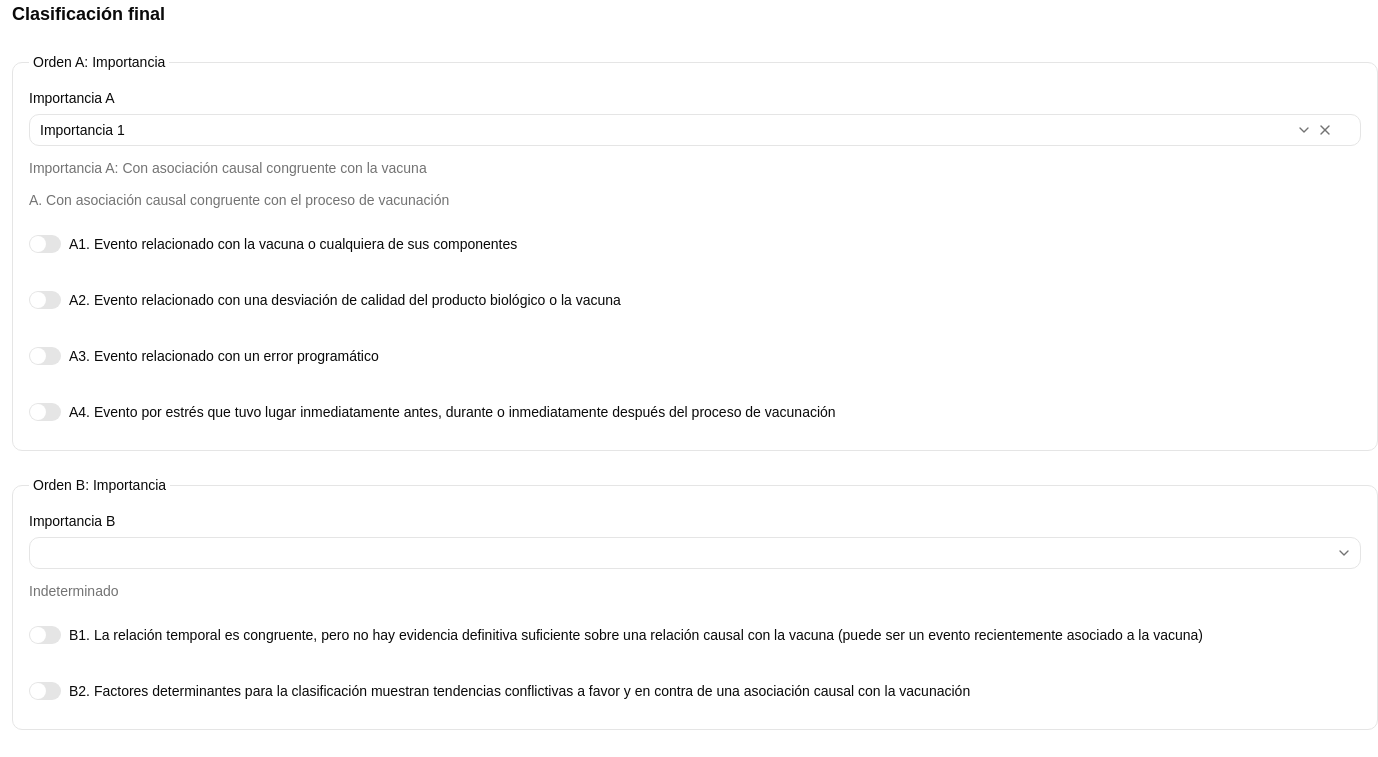
Test: FinalClassificationStep — precedencia entre importancias (SPEC FE14a §3.5) › elegir en B la posición de A deja A en null y muestra el aviso
This screenshot has width=1378, height=757.
Expected: the dropdown named "Importancia A" reads "Importancia 1", [29,114,1361,146]
Click the dropdown named "Importancia B" at (1344, 553), box [29,537,1361,569]
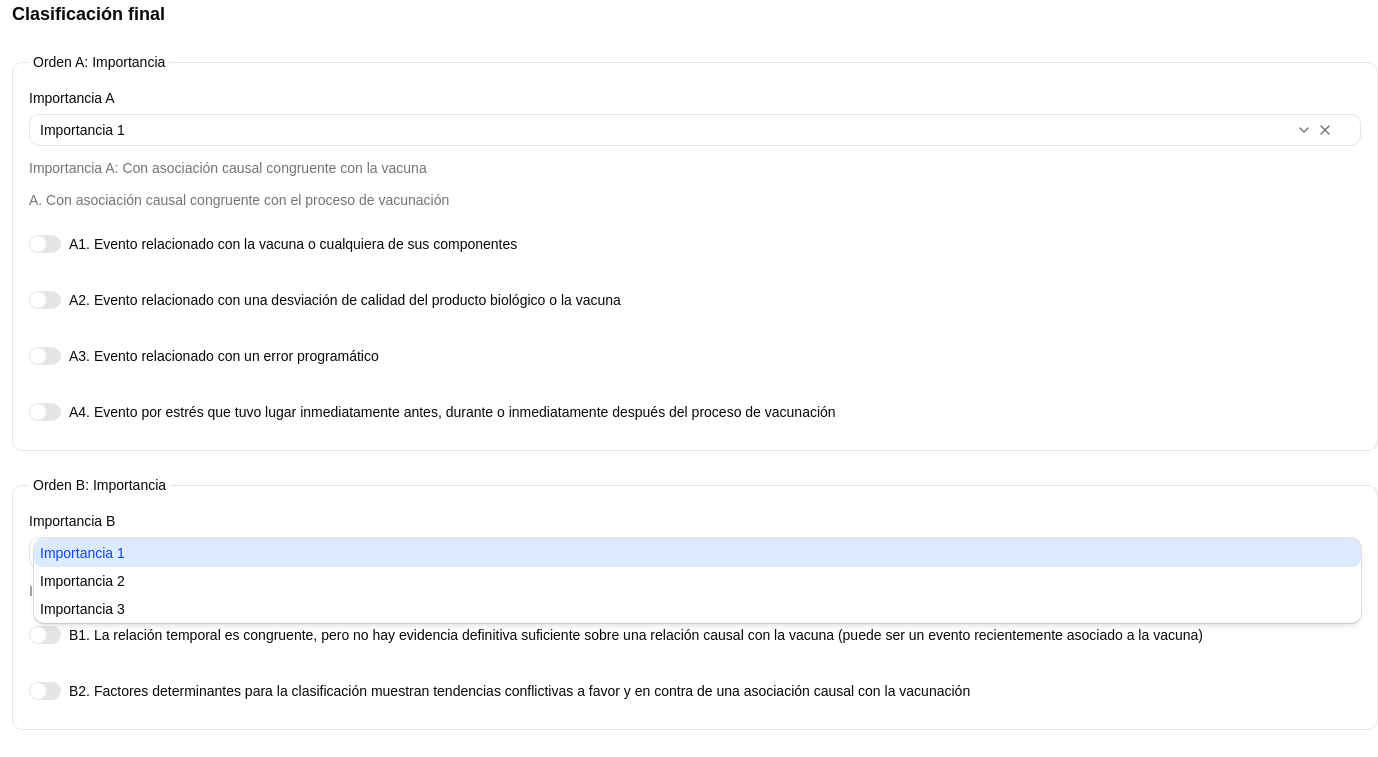
Click the option "Importancia 1" at (82, 553), box [34,539,1361,567]
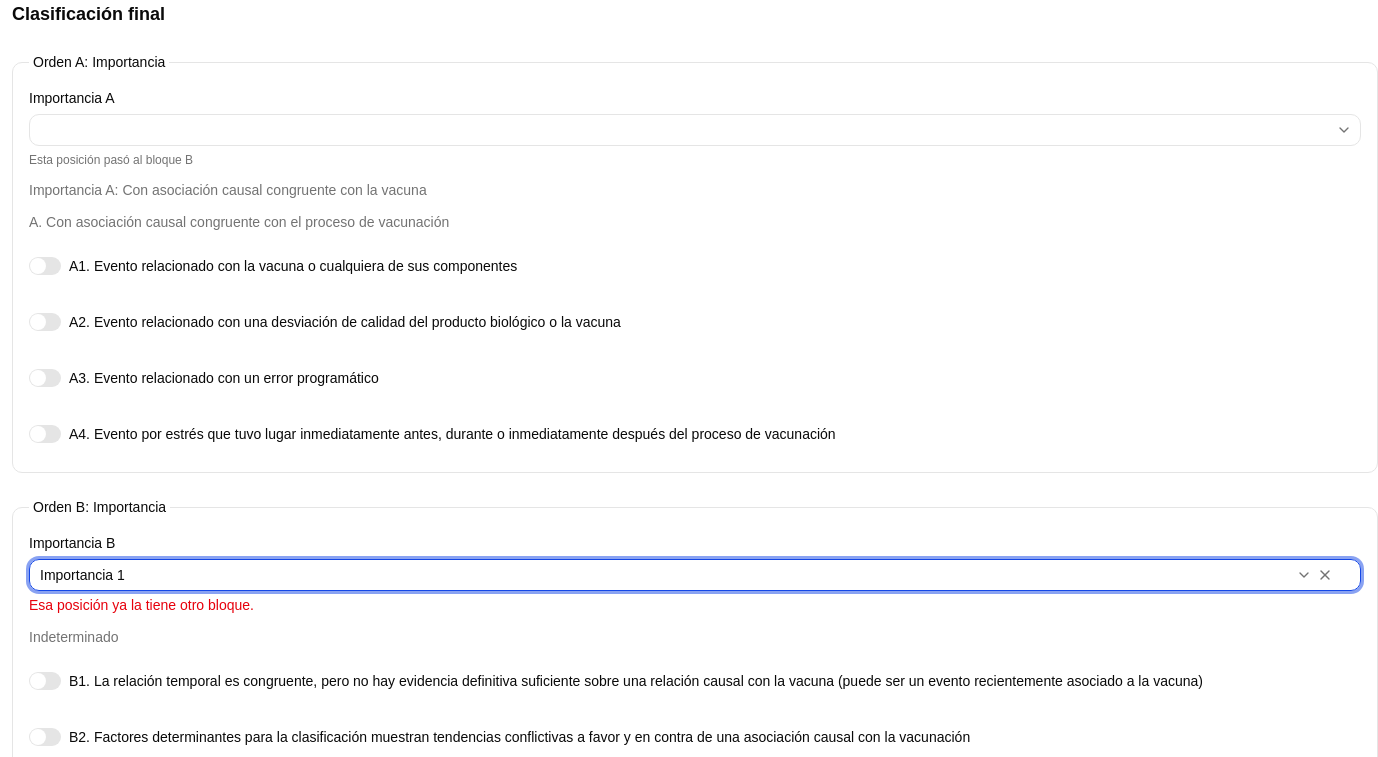
Expected: the dropdown named "Importancia A" does not show "Importancia 1", [29,114,1361,146]
Expected: the dropdown named "Importancia B" reads "Importancia 1", [29,559,1361,591]
Expected: the message "Esta posición pasó al bloque B" is shown, [29,153,193,167]
